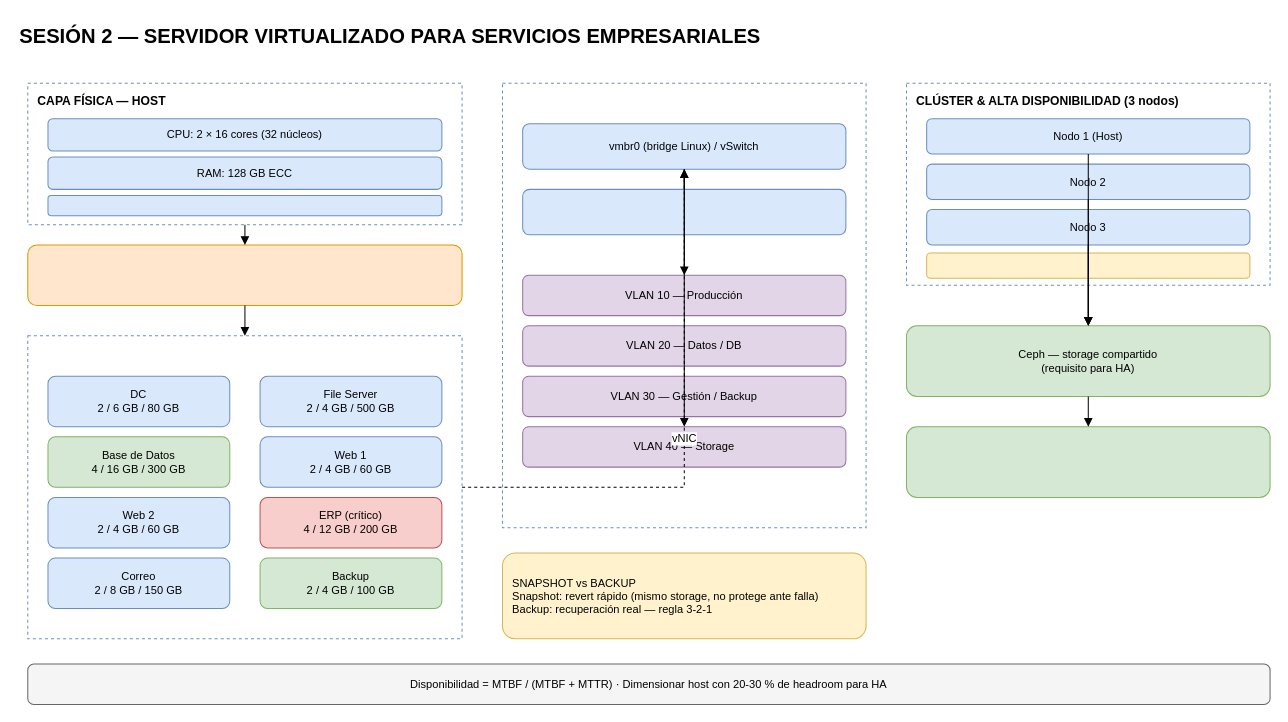
Image size: 1288x722. Some labels were removed from this diagram. The box of each missing label's shape, as (x1, y1, x2, y2) in pixels:
bond0 — LACP 2 × 25 GbE (redundancia): (522, 188, 846, 235)
HYPERVISOR TIPO 1 Proxmox VE (KVM + LXC) · o · VMware ESXi: (27, 244, 462, 306)
MÁQUINAS VIRTUALES (consolidación de 8 físicos): (27, 335, 462, 639)
Proxmox Backup Server / Veeam Backup diario incremental + snapshots: (905, 426, 1270, 497)
Quorum: Corosync + QDevice (evitar split-brain): (926, 252, 1250, 278)
RED VIRTUAL / VIRTUAL SWITCHING: (501, 82, 866, 528)
Storage: NVMe RAID 10 — 2 TB útiles: (47, 194, 442, 216)
